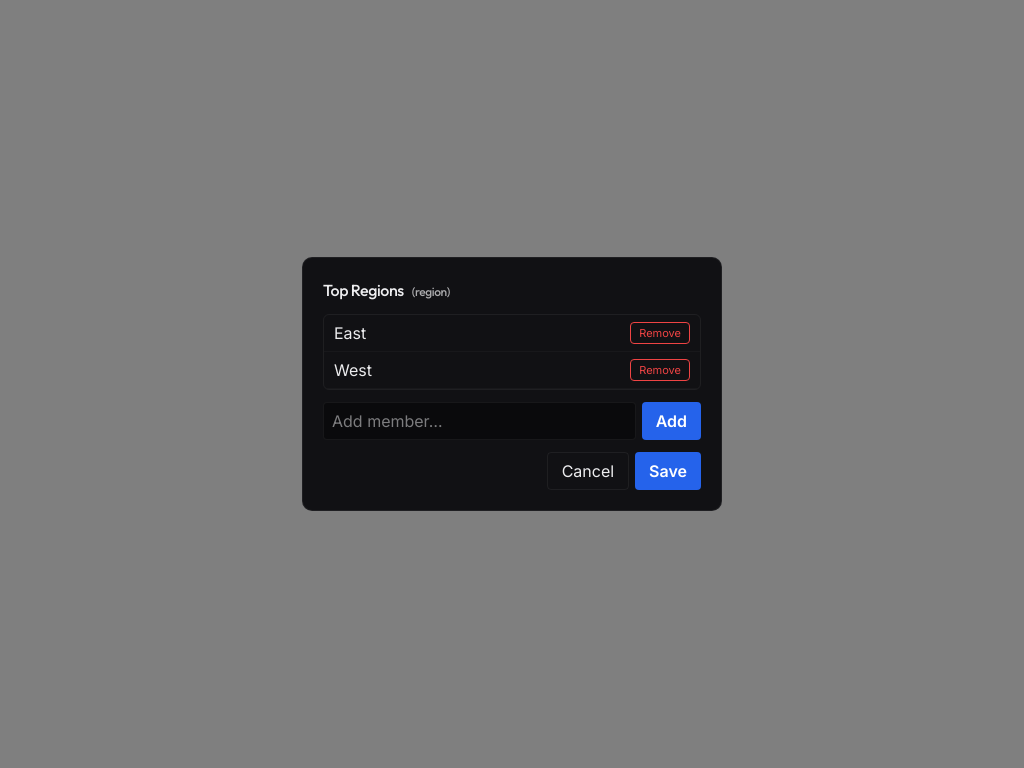
Scenario: SetMemberDialog › adds a new member via the input
Type "North" into the field with placeholder "Add member…" at (479, 421), box x1=323 y1=402 x2=636 y2=440
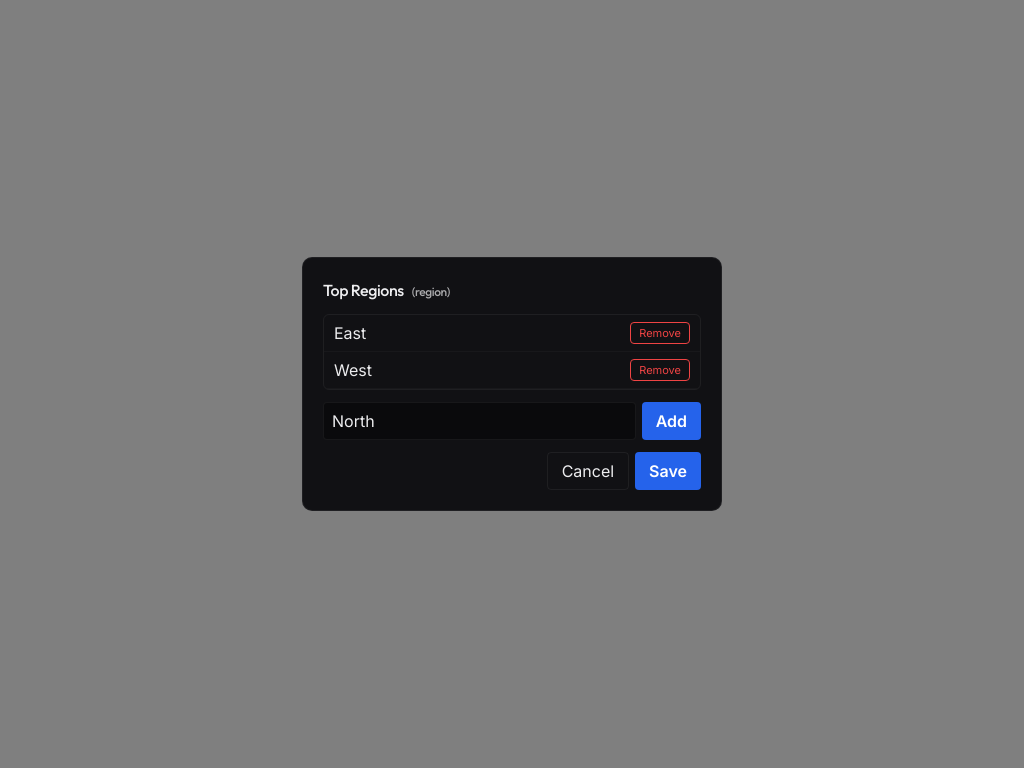
Click the button "Add" at (671, 421), box x1=642 y1=402 x2=701 y2=440
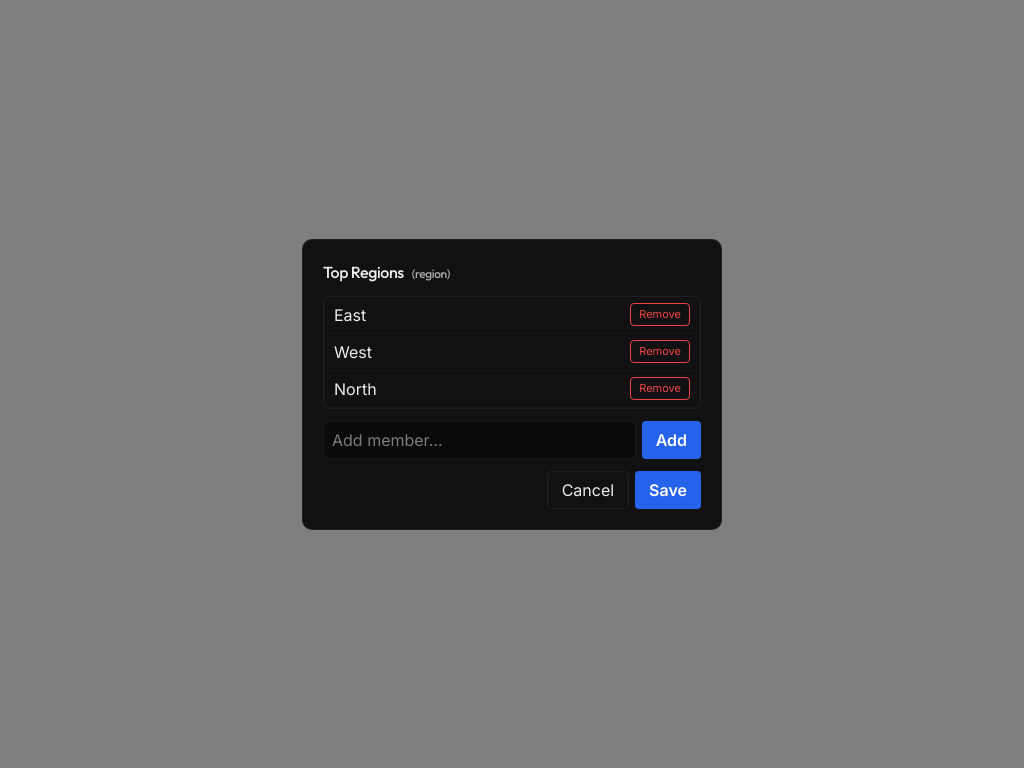
Expected: the text "North" is shown, x1=334 y1=376 x2=377 y2=400
